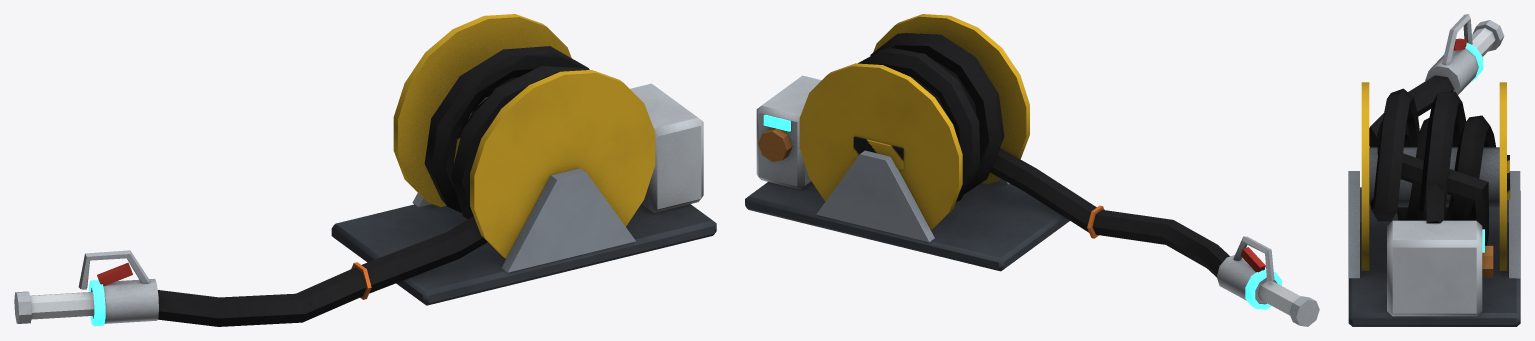
The model's file is cable_combustible.fbx.
3 renders of one model, left to right at view 1: azimuth 30°, elevation 25°; view 2: azimuth 150°, elevation 25°; view 3: azimuth 270°, elevation 25°, orthographic. The views are drawn at different scales.
Visible parts, largest first — view 1: cable_combustible, cable_combustible_neon; view 2: cable_combustible, cable_combustible_neon; view 3: cable_combustible, cable_combustible_neon.
Part boxes in pixels (x1,y1,x2,y2): cable_combustible: [14, 14, 716, 326]; cable_combustible_neon: [89, 280, 105, 326]; cable_combustible: [745, 14, 1319, 326]; cable_combustible_neon: [763, 114, 1281, 309]; cable_combustible: [1348, 14, 1520, 326]; cable_combustible_neon: [1442, 42, 1484, 252].
Size of the model in its own units: 3.48 by 1 by 0.9015.
Materials: 2 (2 with a texture image).
